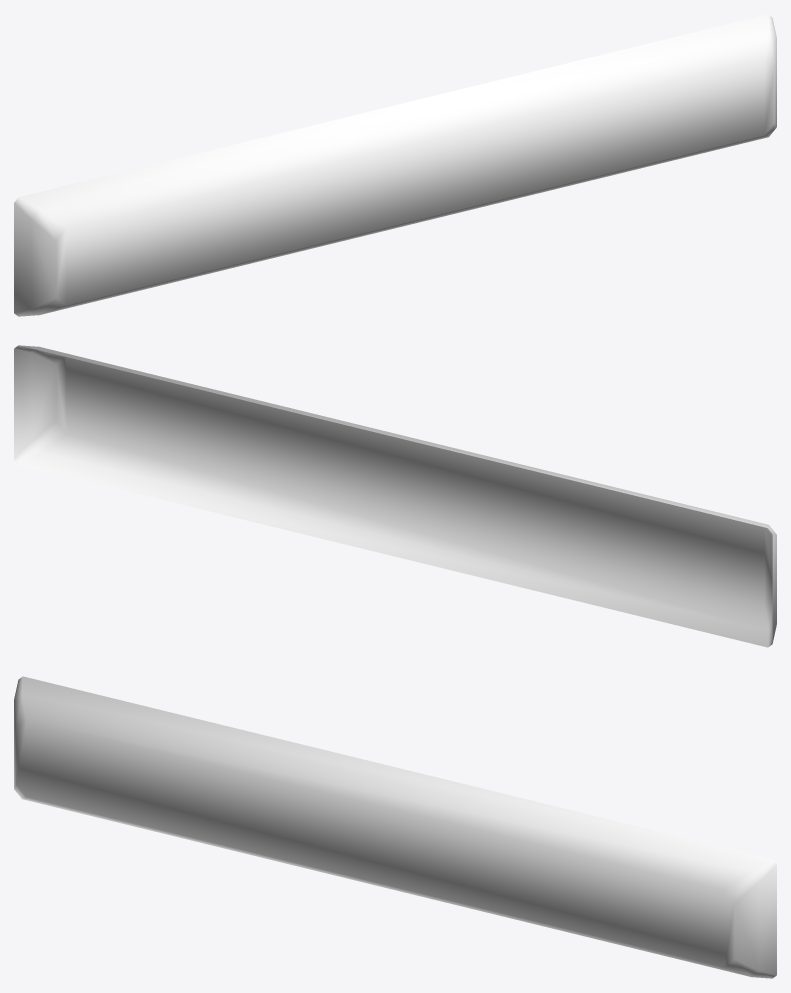
Rendered from spacebar.glb.
3 renders of one model, top to bottom at view 1: azimuth 30°, elevation 25°; view 2: azimuth 150°, elevation 25°; view 3: azimuth 330°, elevation 25°, orthographic.
Visible parts, largest first — view 1: keys_low_LOD0_keys_LOD0_0.004; view 2: keys_low_LOD0_keys_LOD0_0.004; view 3: keys_low_LOD0_keys_LOD0_0.004.
Part boxes in pixels (x1,y1,x2,y2): keys_low_LOD0_keys_LOD0_0.004: (14, 14, 776, 316); keys_low_LOD0_keys_LOD0_0.004: (14, 345, 776, 647); keys_low_LOD0_keys_LOD0_0.004: (14, 676, 776, 978).
Size of the model in its own units: 1.52 by 0.2281 by 0.077.
Materials: 1 (1 with a texture image).
